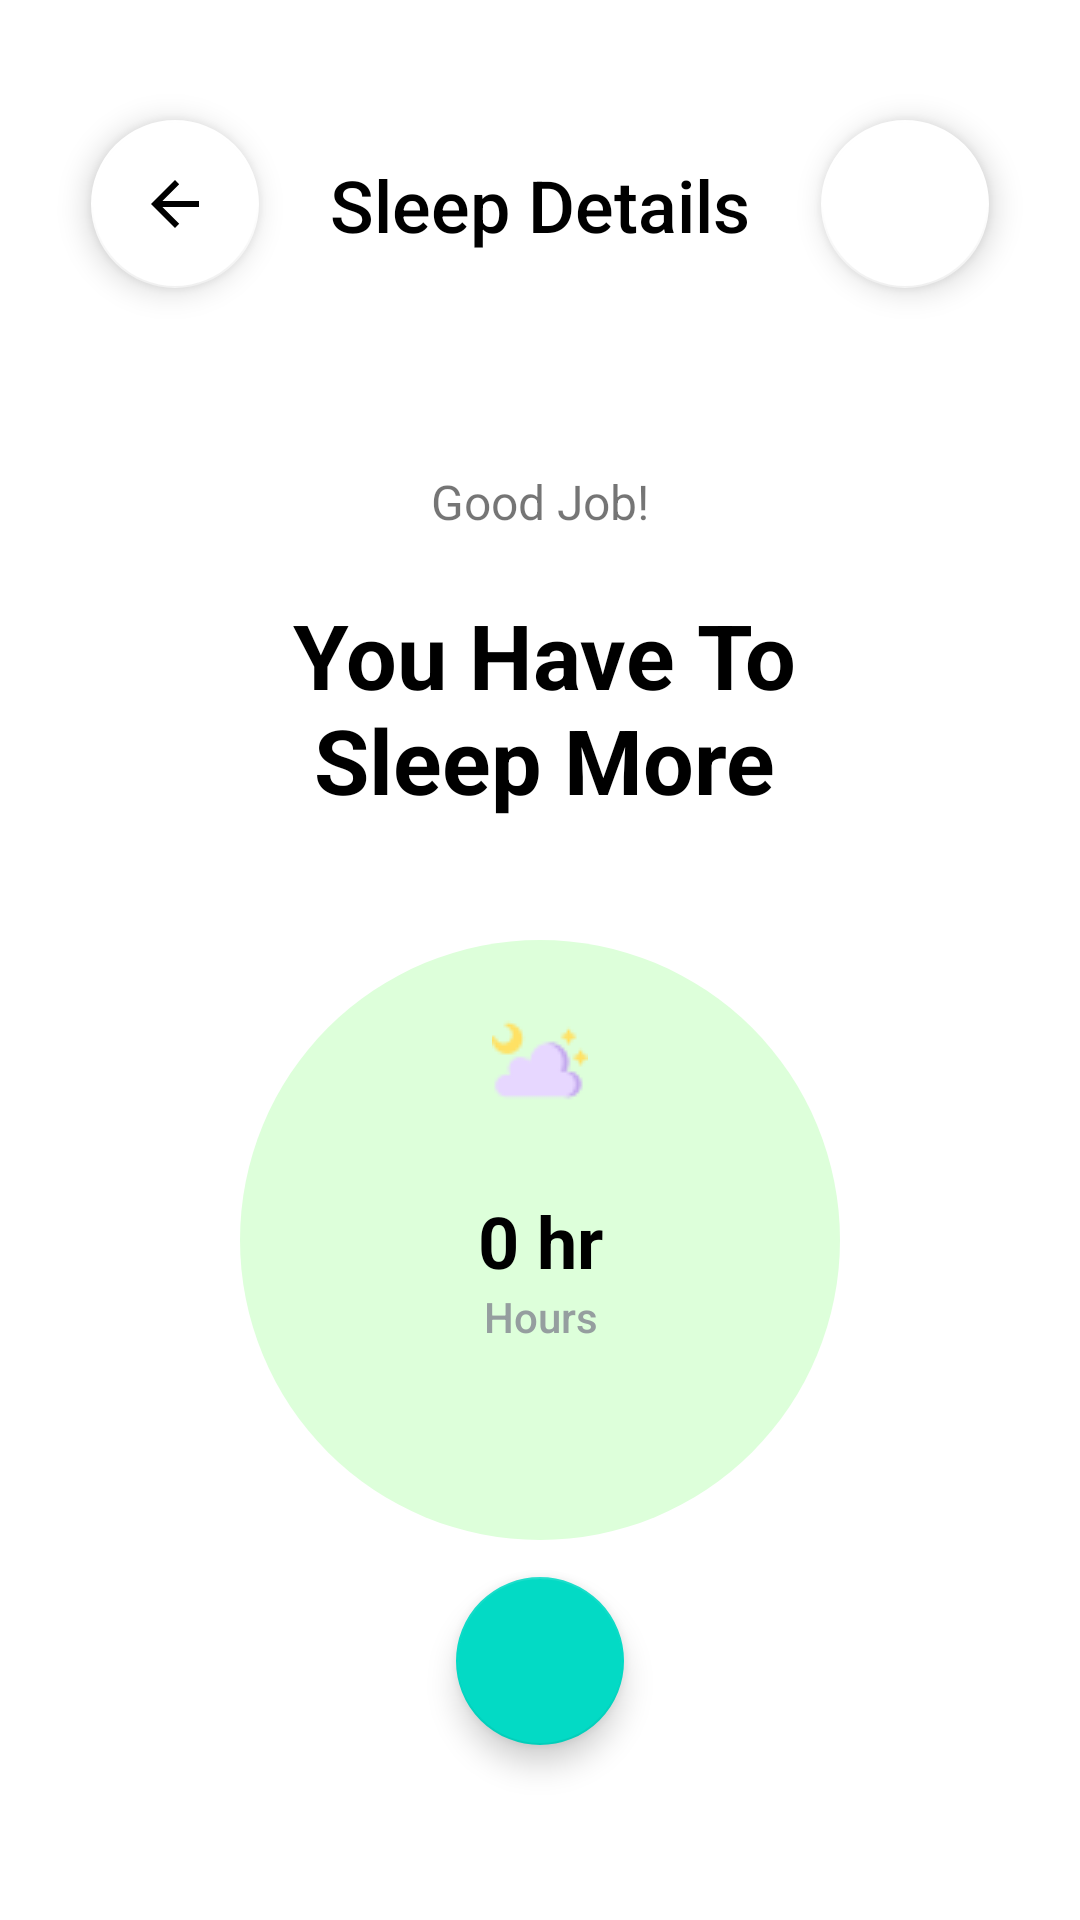

Icon bounding boxes for this 1080px×1920px phone screenshot, format (x1, y1, x2, y2):
sky: (492, 1022, 588, 1098)
